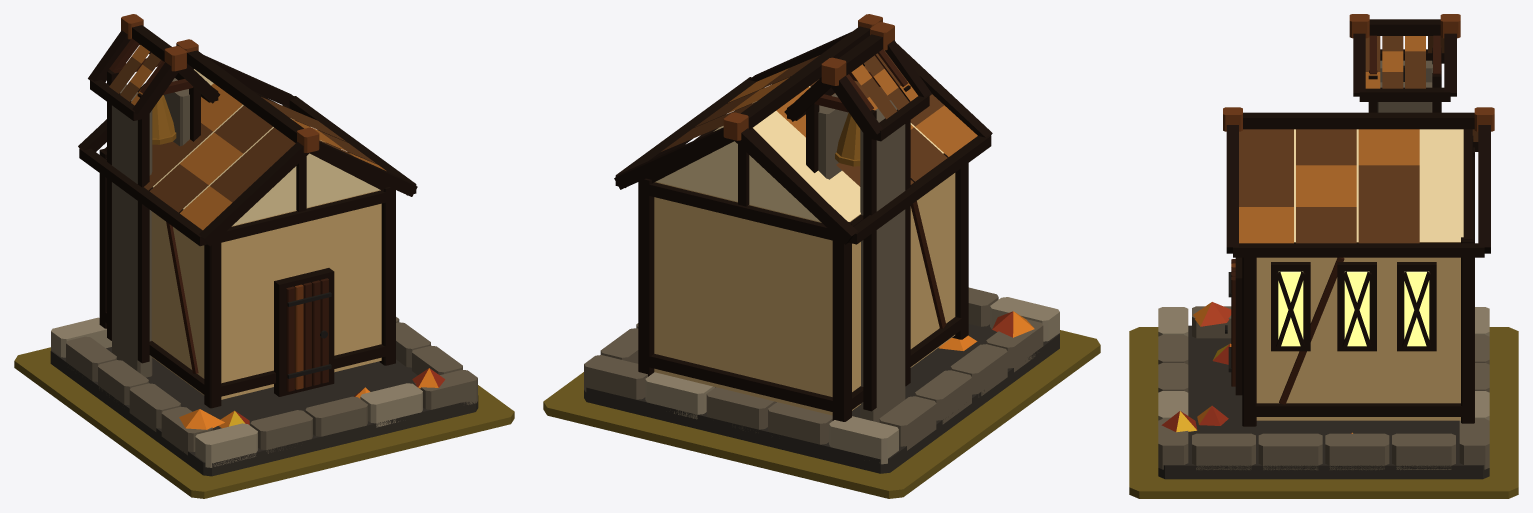
Rendered from chapel_t2.glb.
3 renders of one model, left to right at view 1: azimuth 30°, elevation 25°; view 2: azimuth 150°, elevation 25°; view 3: azimuth 270°, elevation 25°, orthographic. The views are drawn at different scales.
Visible parts, largest first — view 1: MMR | chapel | T02 Architecture.001, MMR | chapel | Tier 02 Ground.001, MMR | chapel | T02 Autumn Dressing.001; view 2: MMR | chapel | T02 Architecture.001, MMR | chapel | Tier 02 Ground.001, MMR | chapel | T02 Autumn Dressing.001; view 3: MMR | chapel | T02 Architecture.001, MMR | chapel | Tier 02 Ground.001, MMR | chapel | T02 Autumn Dressing.001.
Part boxes in pixels (x1=…): MMR | chapel | T02 Architecture.001: x1=50, y1=14, x2=478, y2=476; MMR | chapel | Tier 02 Ground.001: x1=14, y1=347, x2=514, y2=498; MMR | chapel | T02 Autumn Dressing.001: x1=179, y1=368, x2=445, y2=429; MMR | chapel | T02 Architecture.001: x1=584, y1=14, x2=1059, y2=473; MMR | chapel | Tier 02 Ground.001: x1=543, y1=330, x2=1100, y2=498; MMR | chapel | T02 Autumn Dressing.001: x1=938, y1=311, x2=1034, y2=350; MMR | chapel | T02 Architecture.001: x1=1158, y1=14, x2=1494, y2=479; MMR | chapel | Tier 02 Ground.001: x1=1129, y1=327, x2=1518, y2=498; MMR | chapel | T02 Autumn Dressing.001: x1=1161, y1=302, x2=1352, y2=433.
Size of the model in its own units: 2.35 by 2.42 by 2.35.
2 materials, 1 textured.
